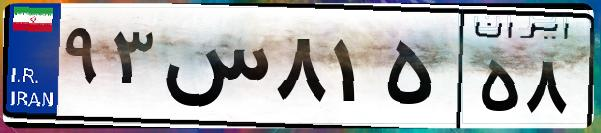1: (330, 28, 385, 110)
3: (110, 28, 158, 98)
5: (385, 28, 445, 110), (475, 38, 525, 113)
8: (270, 28, 330, 110), (525, 38, 570, 115)
9: (57, 26, 110, 100)
س: (158, 20, 270, 120)
